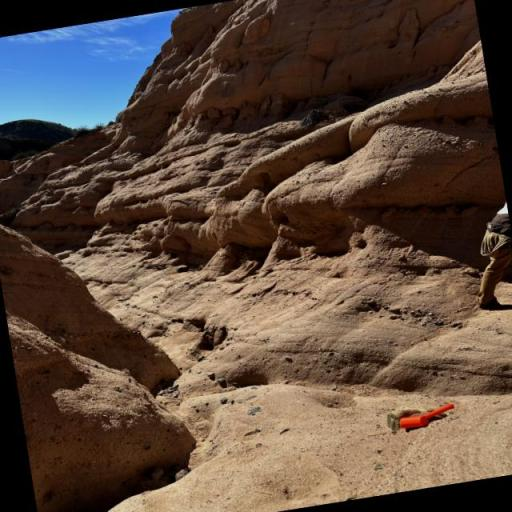mallet: (398, 404, 456, 430)
